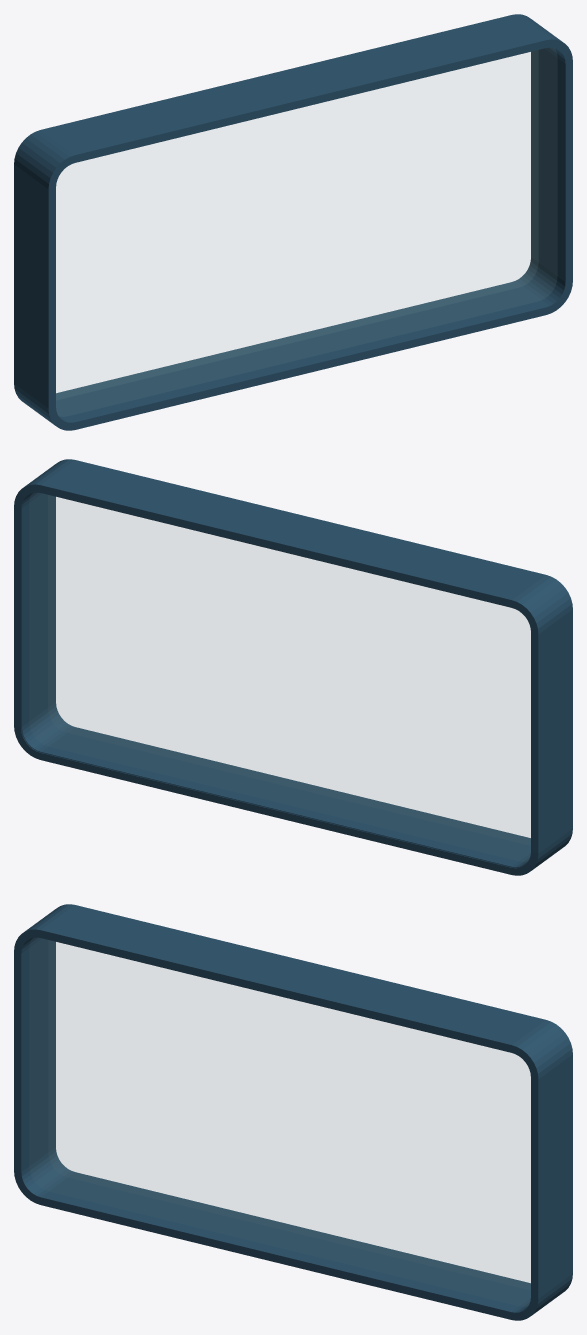
Rendered from window_double.glb.
3 renders of one model, top to bottom at view 1: azimuth 30°, elevation 25°; view 2: azimuth 150°, elevation 25°; view 3: azimuth 330°, elevation 25°, orthographic.
Visible parts, largest first — view 1: DoubleWindowGlass, DoubleWindowFrame; view 2: DoubleWindowGlass, DoubleWindowFrame; view 3: DoubleWindowGlass, DoubleWindowFrame.
Boxes of the visible parts, x1,y1,x2,y2 form: DoubleWindowGlass: (56,50,538,399); DoubleWindowFrame: (14,14,572,430); DoubleWindowGlass: (48,495,530,845); DoubleWindowFrame: (14,459,572,875); DoubleWindowGlass: (48,940,530,1289); DoubleWindowFrame: (14,904,572,1320).
Size of the model in its own units: 6.01 by 3.01 by 0.688.
